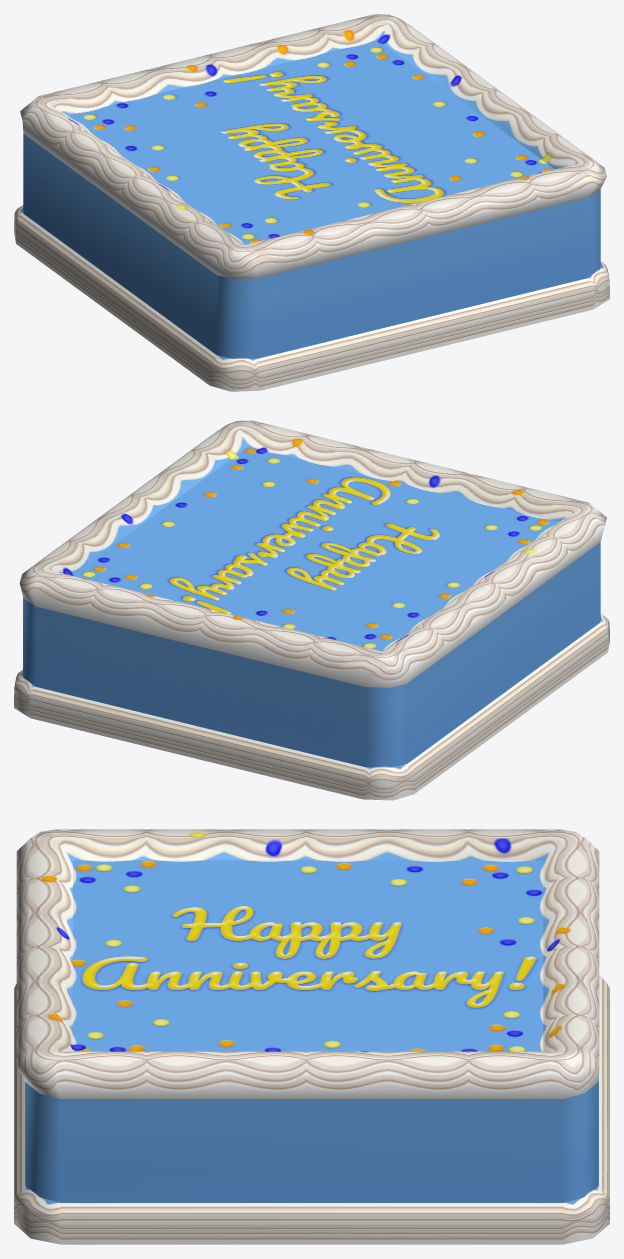
The model's file is SheetCake_01_Whole.fbx.
The picture shows the model from 3 angles, top to bottom: view 1: azimuth 30°, elevation 25°; view 2: azimuth 150°, elevation 25°; view 3: azimuth 270°, elevation 25°; orthographic projection. The views are drawn at different scales.
Parts seen in each view (by area): view 1: SheetCake_01_Whole; view 2: SheetCake_01_Whole; view 3: SheetCake_01_Whole.
Part boxes in pixels (x1,y1,x2,y2): SheetCake_01_Whole: [14, 14, 609, 391]; SheetCake_01_Whole: [14, 420, 609, 800]; SheetCake_01_Whole: [14, 829, 609, 1244].
Size of the model in its own units: 125 by 39.96 by 125.
